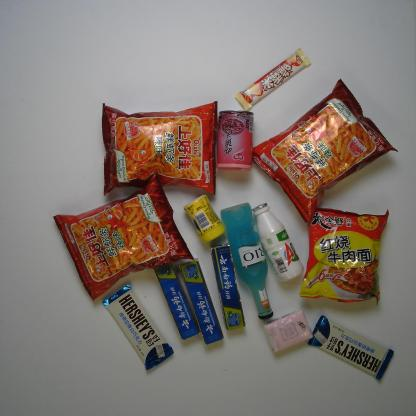Alcohol: (218, 199, 276, 321)
Canned Food: (213, 108, 255, 174)
Chocolate: (100, 278, 176, 375), (304, 313, 396, 383), (233, 46, 314, 114)
Gum: (181, 191, 230, 248)
Instant Noodles: (297, 206, 391, 309)
Milk: (250, 200, 306, 286)
Personal Hygiene: (149, 257, 202, 343), (178, 254, 225, 348), (207, 240, 248, 334)
Puffed Food: (249, 75, 401, 225), (50, 168, 197, 304), (95, 98, 220, 197)
Tissue: (260, 307, 316, 357)
